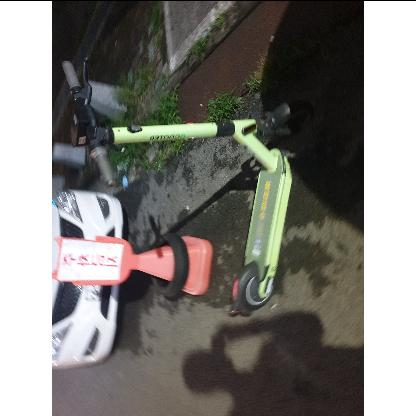bike: (54, 57, 315, 373)
